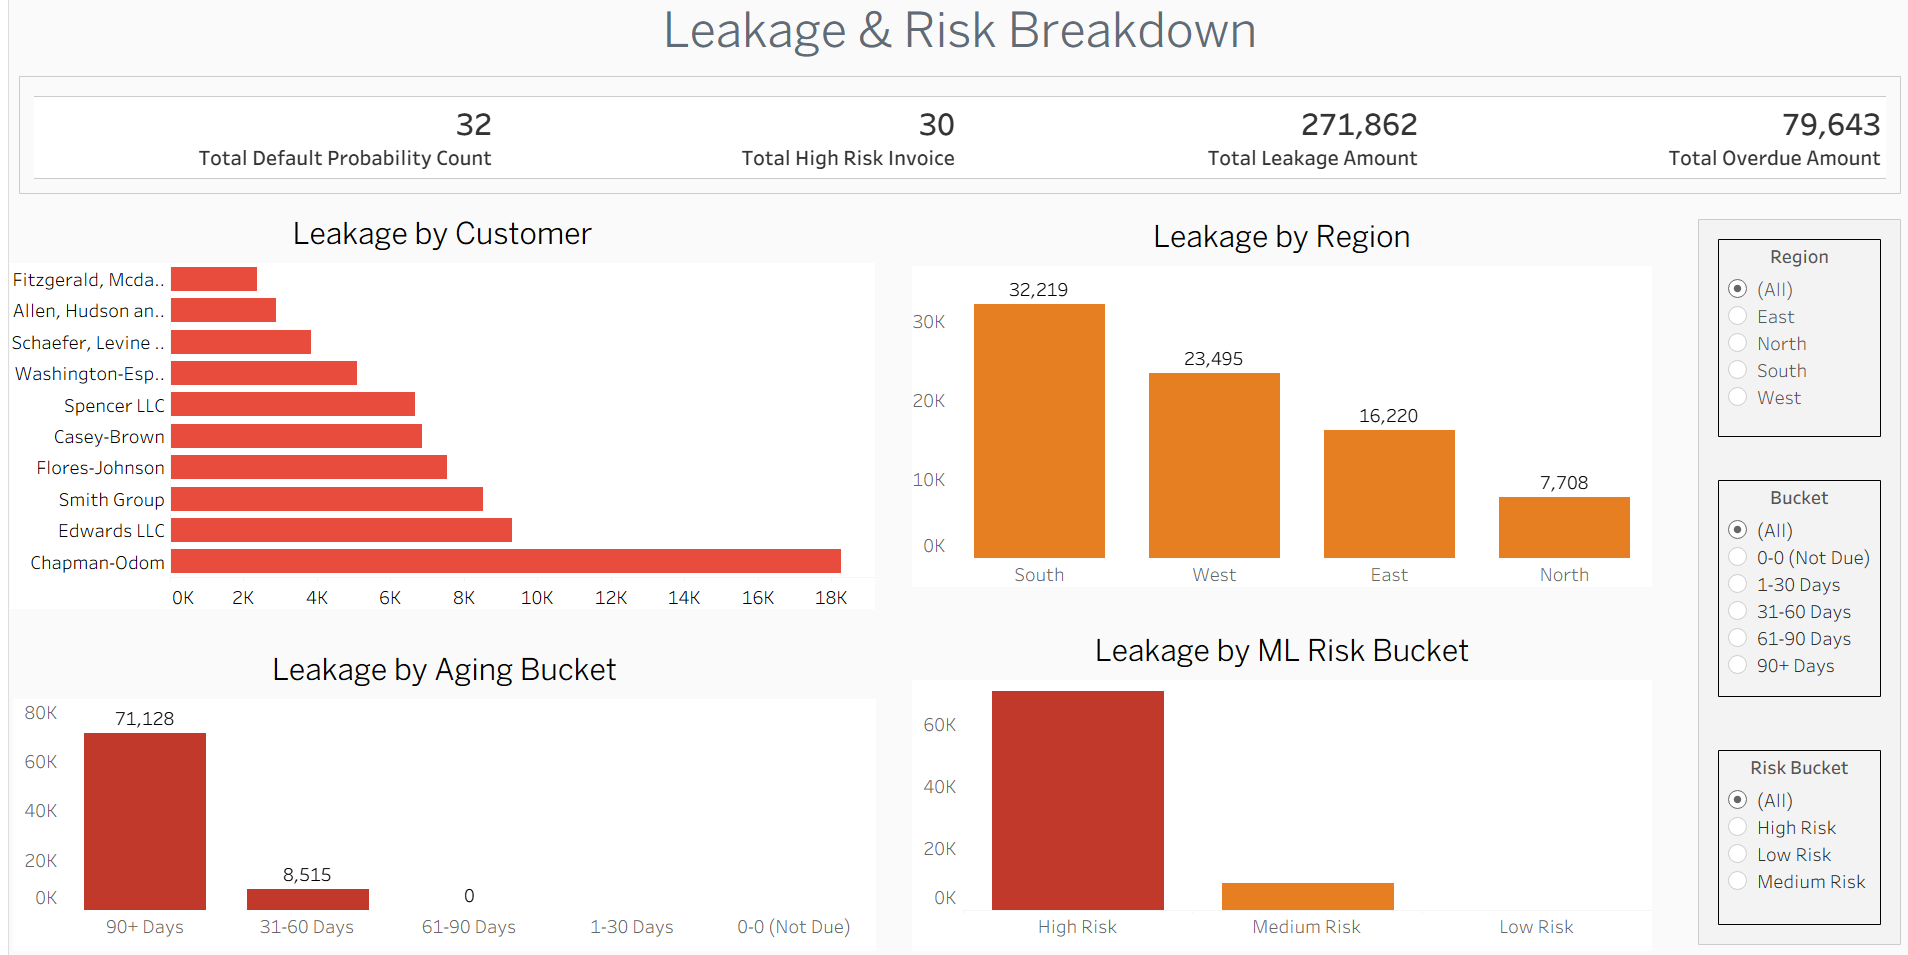

This screenshot's page, from the dashboard's own definition file:
{"tool":"tableau","page":{"name":"Dashboard 2","canvas":[1000,1000],"units":"permille","ordinal":0},"visuals":[{"type":"title","box":[4.7,9.4,990.6,65.6]},{"type":"worksheet","title":"KPI 2","mark":"Automatic","box":[15.6,107.3,968.7,94.8]},{"type":"worksheet","title":"LK by Cust","mark":"Bar","rows":["name"],"cols":["Calculation_86131353713610757"],"box":[4.7,229.2,451.6,417.7]},{"type":"worksheet","title":"LK by Reg","mark":"Bar","rows":["Calculation_86131353713610757"],"cols":["region"],"box":[472.9,229.2,389.7,389.5]},{"type":"filter","title":"LK by Reg","param":"[federated.1yhlttb00seysf1b5hwc01igatpn].[none:region:nk]","box":[892.8,256.2,88.9,214.6]},{"type":"filter","title":"LK by Buc","param":"[federated.1yhlttb00seysf1b5hwc01igatpn].[none:Calculation_86131353707560963:nk]","box":[892.8,507.3,88.9,232.3]},{"type":"worksheet","title":"LK by Ml","mark":"Bar","rows":["Calculation_86131353713610757"],"cols":["Calculation_793196495449354240"],"box":[472.9,651.9,389.7,338.7]},{"type":"worksheet","title":"LK by Buc","mark":"Bar","rows":["Calculation_86131353713610757"],"cols":["Calculation_86131353707560963"],"box":[4.7,680.2,451.6,310.4]},{"type":"filter","title":"LK by Ml","param":"[federated.1yhlttb00seysf1b5hwc01igatpn].[none:Calculation_793196495449354240:nk","box":[892.8,772.9,88.9,190.6]}]}

Visuals, with their boxes on the dashboard's canvas, which has no fixed pixel size, in thousandths of its width and height (x1, y1, x2, y2). These are canvas units, not pixel positions in the 1908x955 screenshot, which may show the page scaled, cropped or inside an application window:
title: [5,9,995,75]
"KPI 2" worksheet: [16,107,984,202]
"LK by Cust" worksheet (Bar marks): [5,229,456,647]
"LK by Reg" worksheet (Bar marks): [473,229,863,619]
"LK by Reg" filter: [893,256,982,471]
"LK by Buc" filter: [893,507,982,740]
"LK by Ml" worksheet (Bar marks): [473,652,863,991]
"LK by Buc" worksheet (Bar marks): [5,680,456,991]
"LK by Ml" filter: [893,773,982,964]
